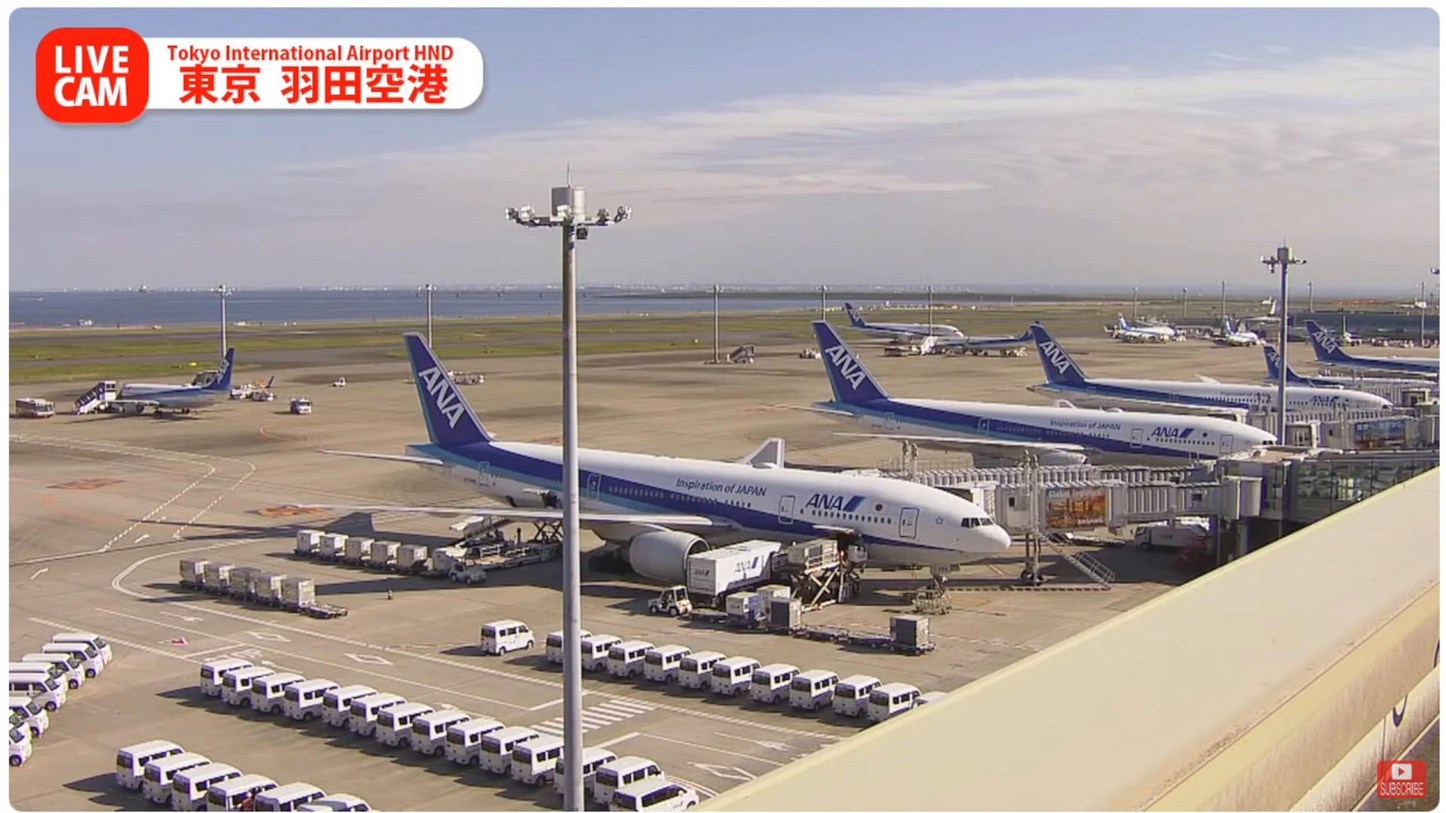Aerobridge: (956, 480, 1243, 535), (885, 461, 1213, 481)
Airplane: (290, 330, 1014, 584)
Catering: (684, 538, 806, 625)
Dolly: (677, 603, 935, 657), (179, 579, 348, 613), (310, 548, 448, 579)
JCPL: (764, 538, 866, 591), (518, 494, 563, 570)
Skyloader: (456, 512, 514, 555)
Tractor: (454, 551, 486, 584), (655, 584, 689, 614)
Window: (1270, 448, 1442, 536)
